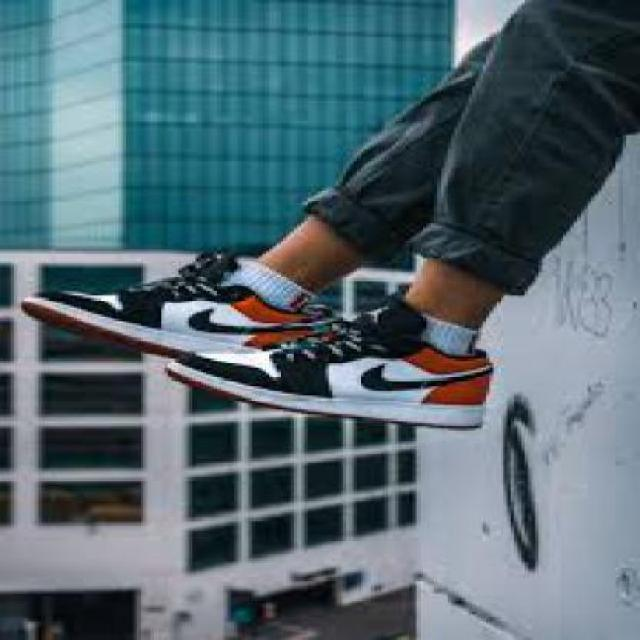Nike: (349, 358, 486, 391), (182, 305, 304, 336)
